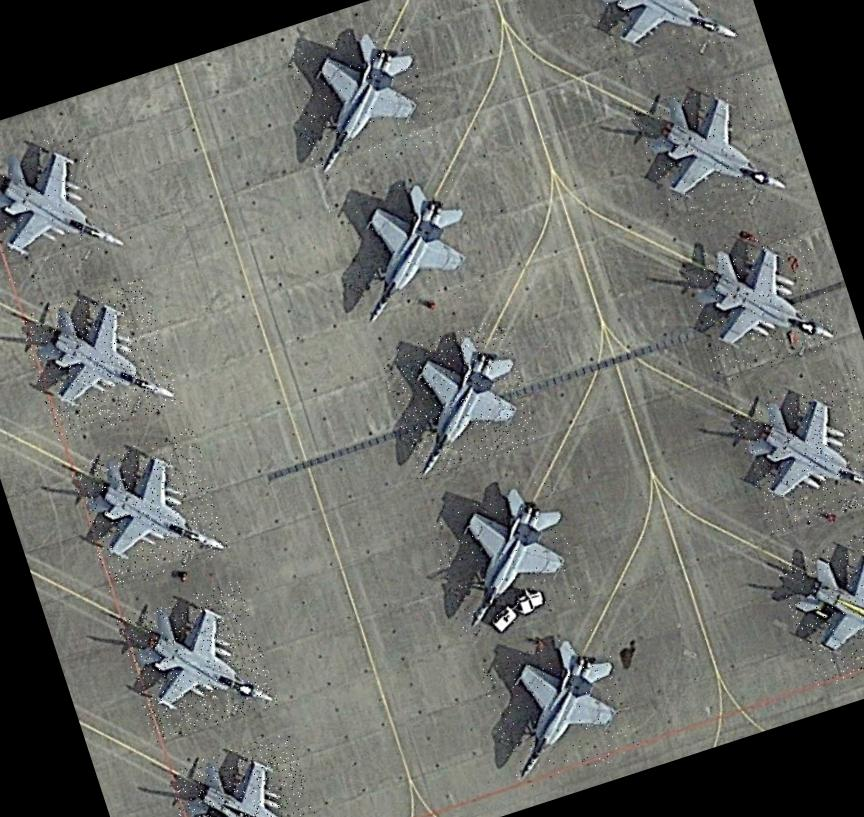A16: (676, 217, 841, 384), (68, 426, 233, 592), (115, 578, 280, 744), (277, 14, 442, 180), (377, 315, 542, 481), (421, 472, 586, 638), (477, 626, 642, 792), (631, 68, 796, 234), (18, 276, 182, 442), (328, 165, 492, 331), (0, 122, 134, 288), (731, 368, 864, 534), (776, 523, 864, 689), (165, 730, 330, 817), (575, 0, 740, 84)
